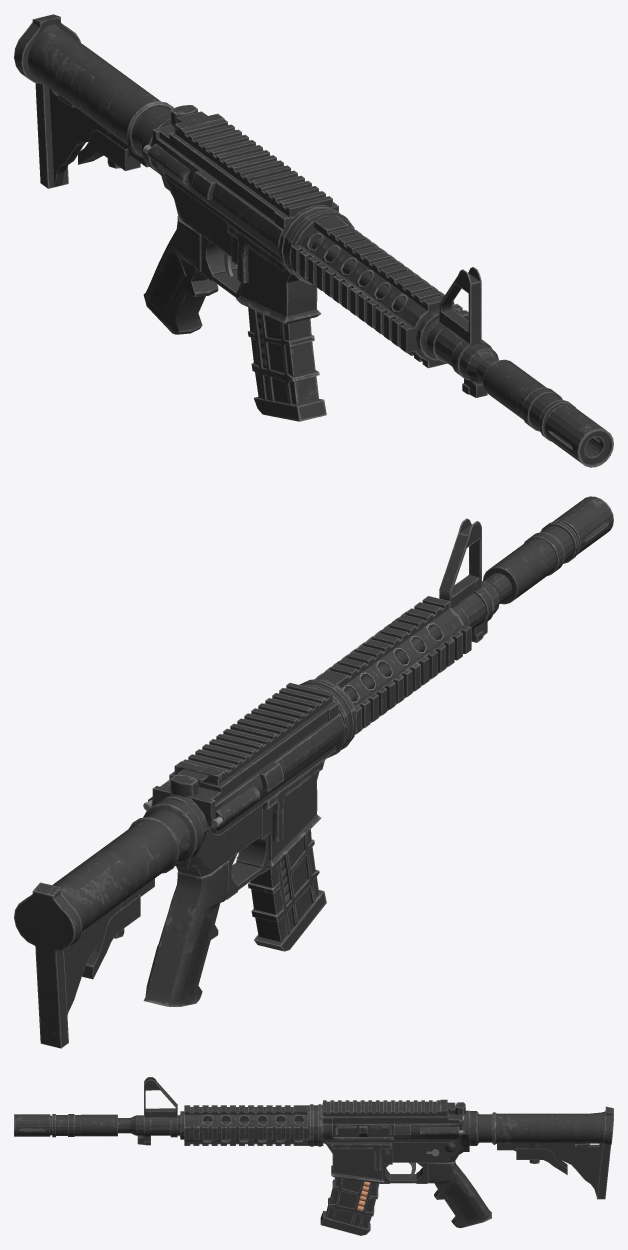
File: arm3.glb
3 views of the same model, one above another, from view 1: azimuth 30°, elevation 25°; view 2: azimuth 150°, elevation 25°; view 3: azimuth 270°, elevation 25° (orthographic). The views are drawn at different scales.
Parts seen in each view (by area): view 1: Front_Barrel, Butt_Stock, Barrel, Magazine, Scope_Track, Flash_Muzzle, Front_Part, Handle, Iron_Sight, Back_part, Trigger_Guard, Stock_Extender (+3 smaller); view 2: Butt_Stock, Front_Barrel, Barrel, Handle, Scope_Track, Magazine, Flash_Muzzle, Front_Part, Iron_Sight, Back_part, Stock_Pipe, Trigger_Guard (+3 smaller); view 3: Front_Barrel, Butt_Stock, Barrel, Magazine, Flash_Muzzle, Front_Part, Scope_Track, Handle, Back_part, Iron_Sight, Shell_Carter, Stock_Pipe (+3 smaller).
Part boxes in pixels (<box>): Front_Barrel: <box>278,205,498,383</box>; Butt_Stock: <box>14,14,173,188</box>; Barrel: <box>148,125,338,262</box>; Magazine: <box>247,307,326,421</box>; Scope_Track: <box>174,111,332,217</box>; Flash_Muzzle: <box>483,359,613,467</box>; Front_Part: <box>227,224,321,324</box>; Handle: <box>143,215,218,334</box>; Iron_Sight: <box>426,267,492,397</box>; Back_part: <box>150,118,231,256</box>; Trigger_Guard: <box>201,235,240,298</box>; Stock_Extender: <box>78,129,140,170</box>; Butt_Stock: <box>14,817,179,1048</box>; Front_Barrel: <box>299,573,512,758</box>; Barrel: <box>148,701,344,835</box>; Handle: <box>143,860,228,1006</box>; Scope_Track: <box>174,682,332,785</box>; Magazine: <box>248,829,326,951</box>; Flash_Muzzle: <box>483,496,613,604</box>; Front_Part: <box>236,758,326,868</box>; Iron_Sight: <box>439,518,494,642</box>; Back_part: <box>162,794,261,877</box>; Stock_Pipe: <box>143,799,203,863</box>; Trigger_Guard: <box>227,835,269,899</box>; Front_Barrel: <box>118,1104,323,1146</box>; Butt_Stock: <box>492,1106,613,1199</box>; Barrel: <box>322,1103,463,1142</box>; Magazine: <box>320,1177,379,1235</box>; Flash_Muzzle: <box>14,1114,117,1137</box>; Front_Part: <box>323,1143,392,1183</box>; Scope_Track: <box>323,1099,455,1115</box>; Handle: <box>427,1161,491,1228</box>; Back_part: <box>392,1110,469,1162</box>; Iron_Sight: <box>137,1077,177,1145</box>; Shell_Carter: <box>332,1123,394,1139</box>; Stock_Pipe: <box>469,1111,492,1145</box>.
Size of the model in its own units: 0.0147 by 0.0522 by 0.1844.
Materials: 1 (1 with a texture image).
